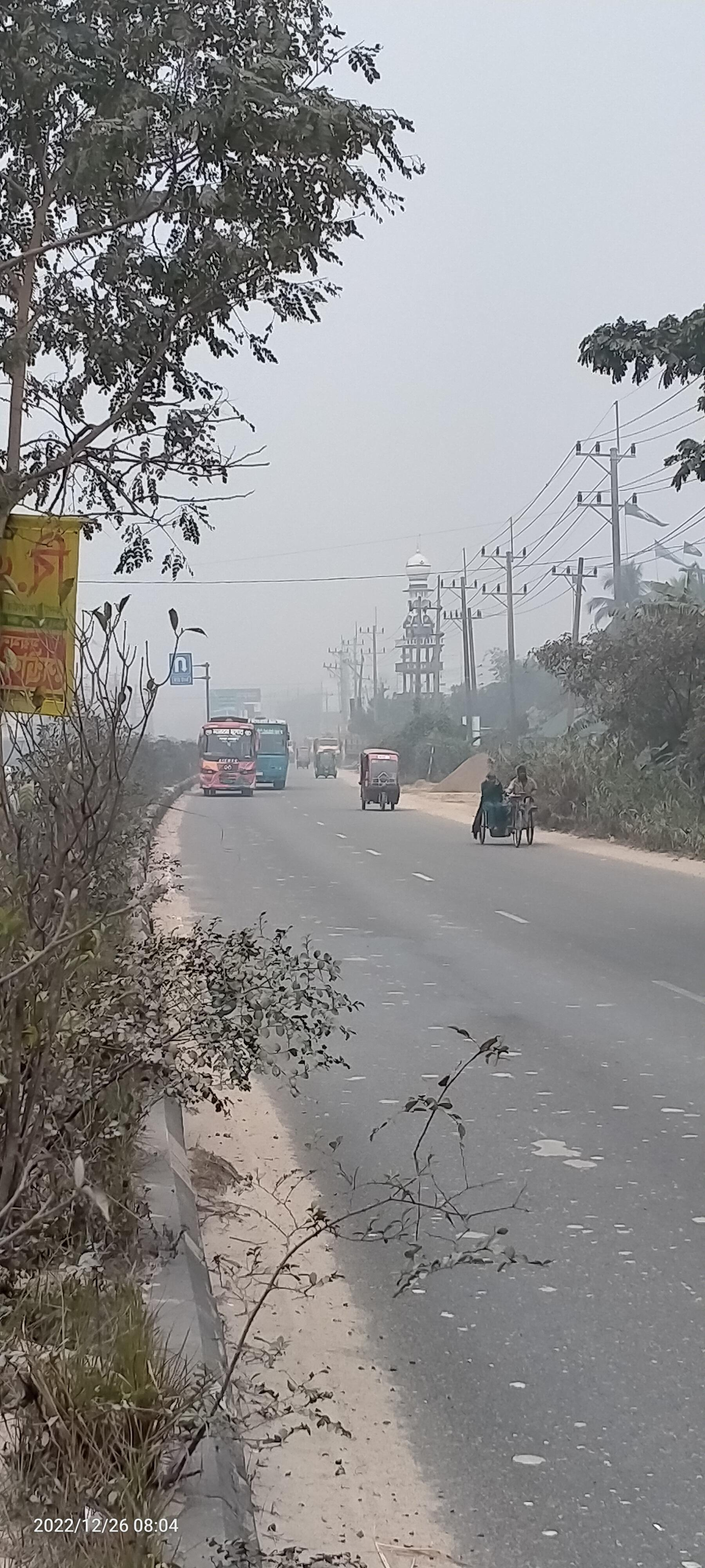Bus: (199, 715, 259, 800), (254, 711, 291, 792)
Car: (356, 748, 406, 817), (292, 745, 314, 771)
